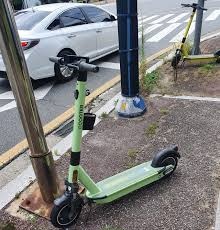kick_board: (48, 55, 179, 226), (175, 3, 220, 62)
kick_body: (188, 55, 213, 59)
kick_handler: (49, 54, 99, 72), (180, 3, 208, 13)
kick_neck: (72, 83, 89, 180), (180, 14, 194, 48)
kick_wheel: (51, 192, 83, 227), (156, 146, 180, 176), (172, 54, 182, 63)
